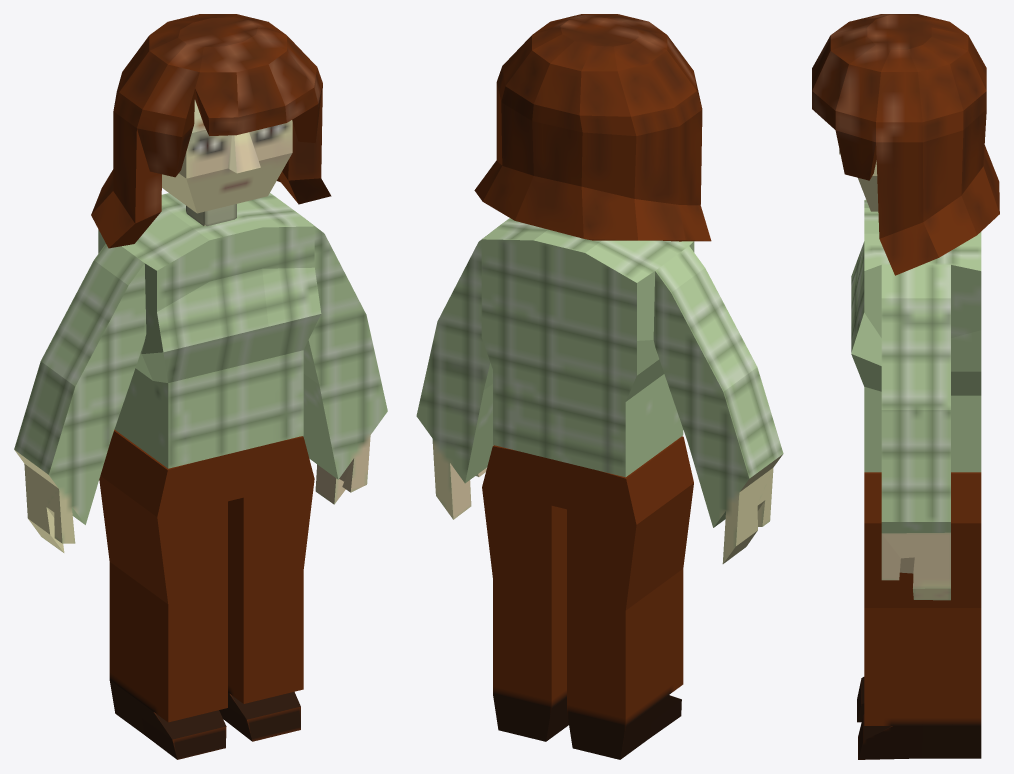
File: Character.fbx
3 views of the same model, side by side, from view 1: azimuth 30°, elevation 25°; view 2: azimuth 150°, elevation 25°; view 3: azimuth 270°, elevation 25° (orthographic).
Parts seen in each view (by area): view 1: mesh_1, mesh_2, cylinder, mesh; view 2: mesh_1, mesh_2, cylinder; view 3: mesh_1, cylinder, mesh_2, mesh.
Boxes of the visible parts, x1,y1,x2,y2 form: mesh_1: (14,193,387,552); mesh_2: (99,429,314,759); cylinder: (91,14,331,248); mesh: (162,100,292,226); mesh_1: (416,218,783,563); mesh_2: (482,436,693,759); cylinder: (474,14,711,241); mesh_1: (851,199,981,600); cylinder: (812,14,999,275); mesh_2: (857,472,981,759); mesh: (839,149,878,211).
Bounding box in the file's own units: 37.58 × 73.91 × 18.03.
